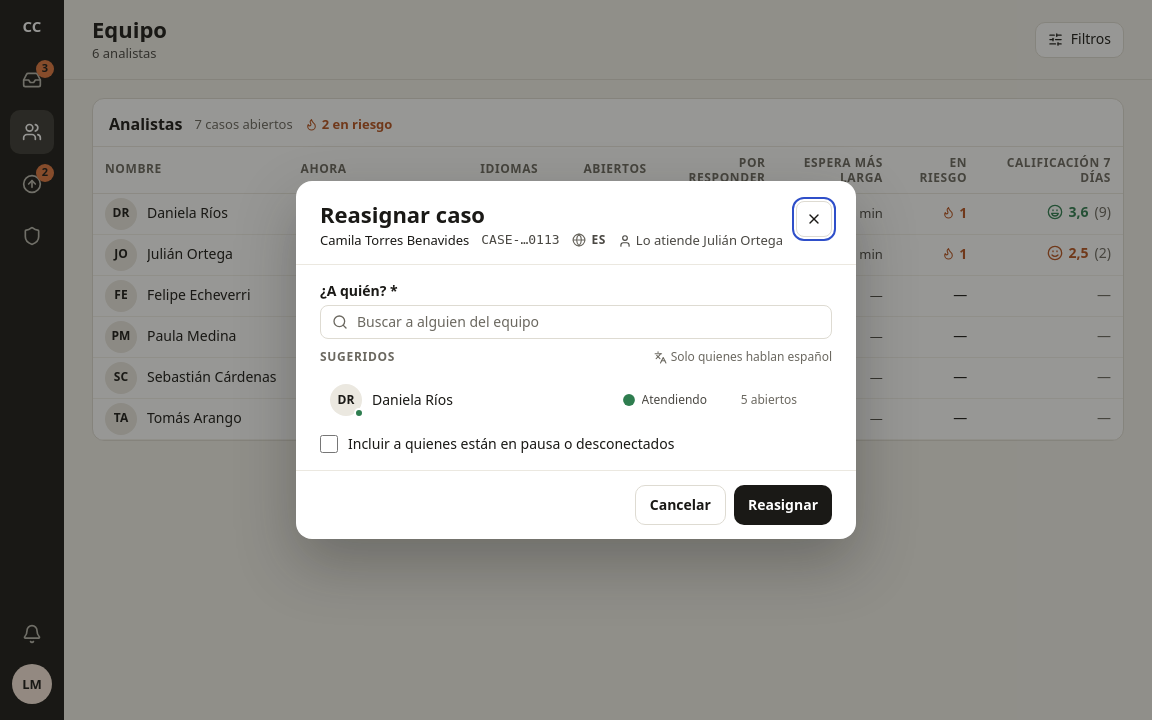
reassign dialog ("Reasignar caso") › asks to confirm a paused choice, previews the notice and reports a race
Step 1. Click the checkbox labelled "Incluir a quienes están en pausa o desconectados" → click(329, 444), box left=320, top=435, right=338, bottom=453
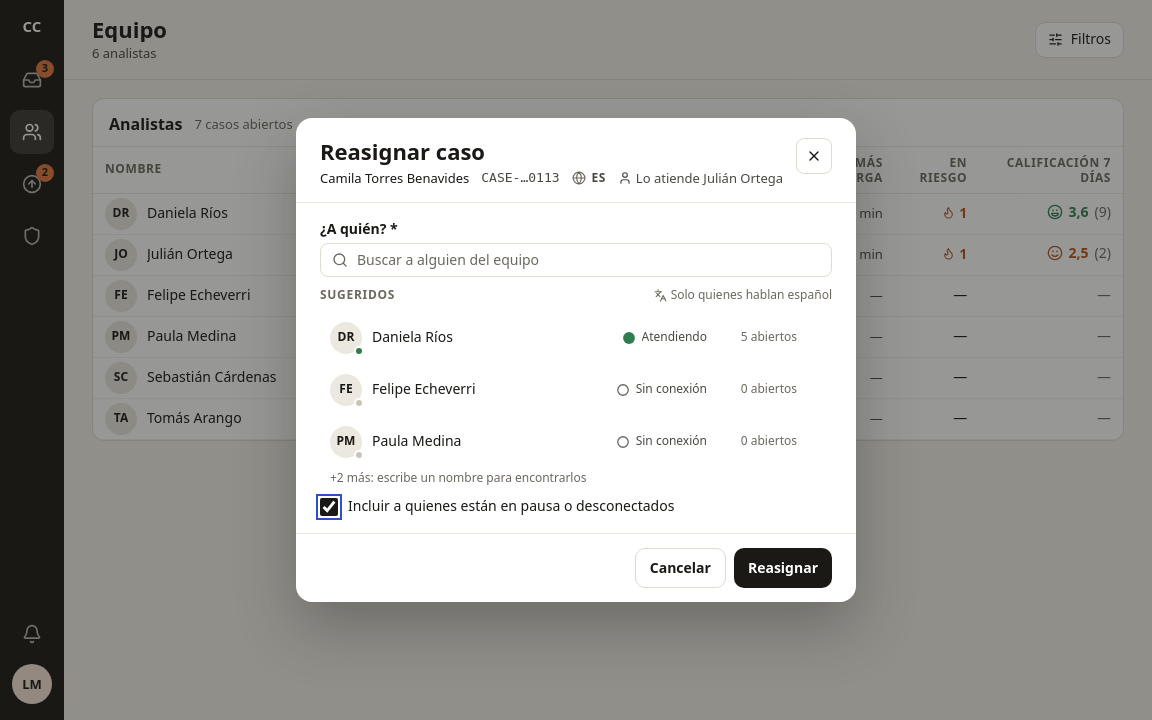
Step 2. Click the radio button labelled "PM Paula Medina Sin conexión 0 abiertos" → click(346, 442), box left=320, top=418, right=832, bottom=466
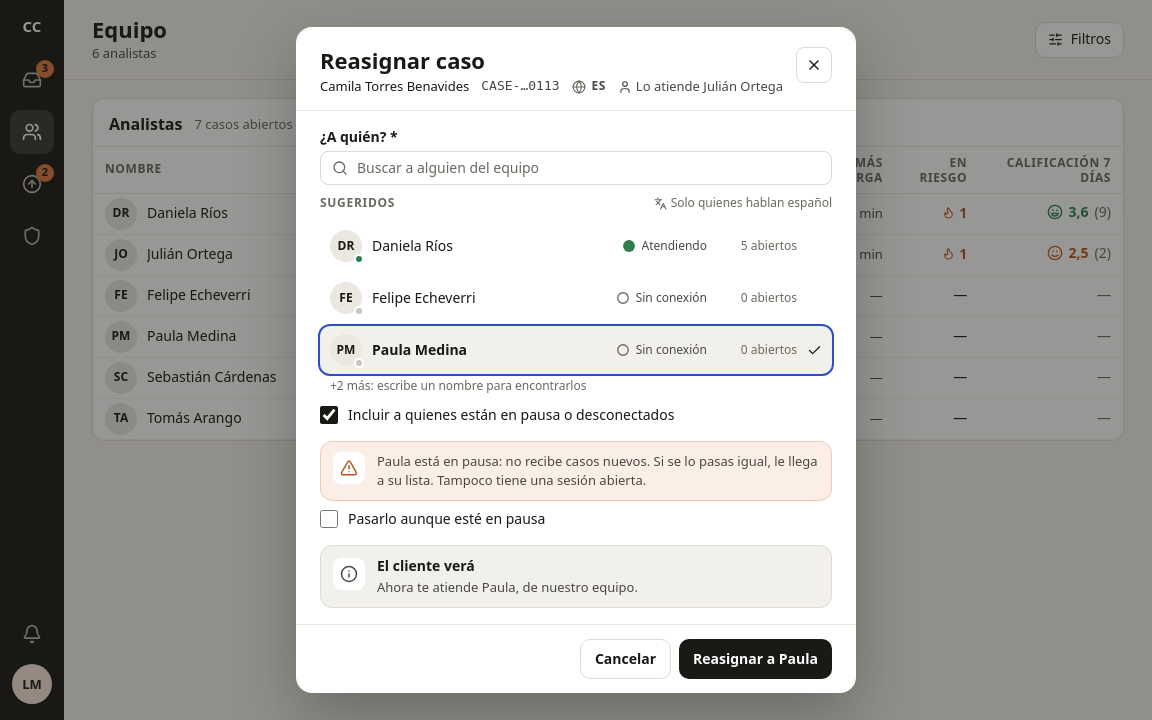
Expected: the text "Paula está en pausa: no recibe casos nuevos" is shown, left=377, top=452, right=818, bottom=489
Step 3. Click the button "Reasignar a Paula" → click(756, 659), box left=679, top=639, right=832, bottom=679
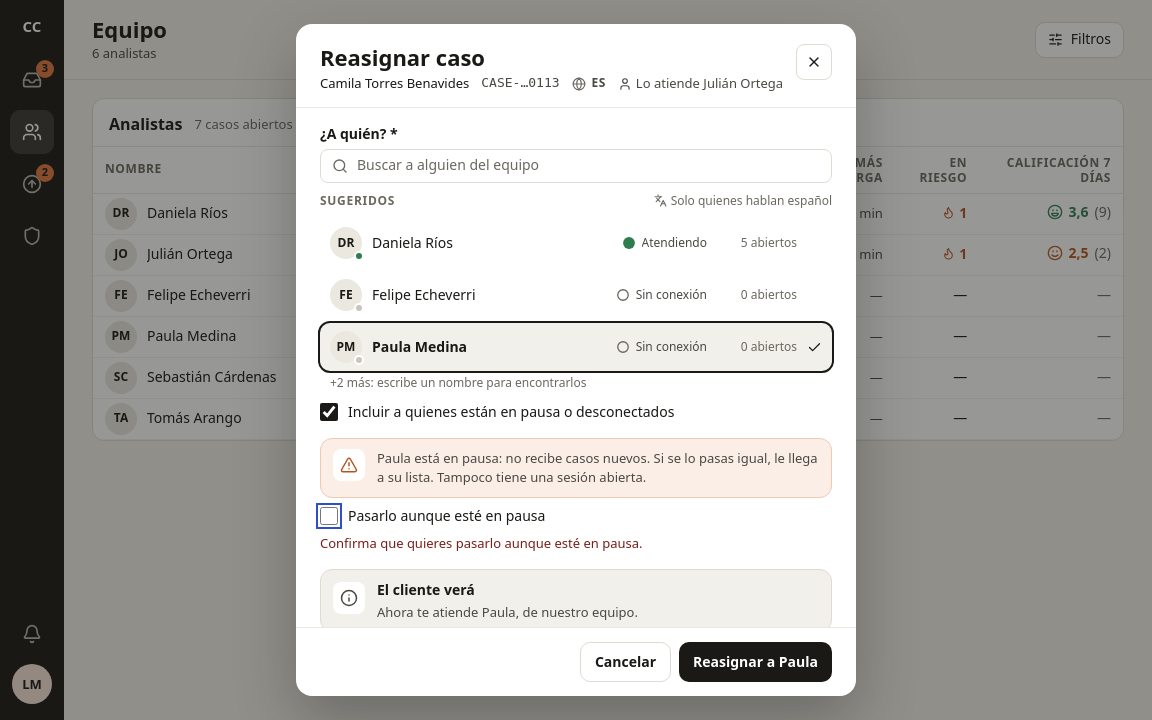
Expected: the text "Confirma que quieres pasarlo aunque esté en pausa." is shown, left=320, top=534, right=643, bottom=552
Step 4. Click the radio button labelled "DR Daniela Ríos Atendiendo 5 abiertos" → click(346, 243), box left=320, top=219, right=832, bottom=267
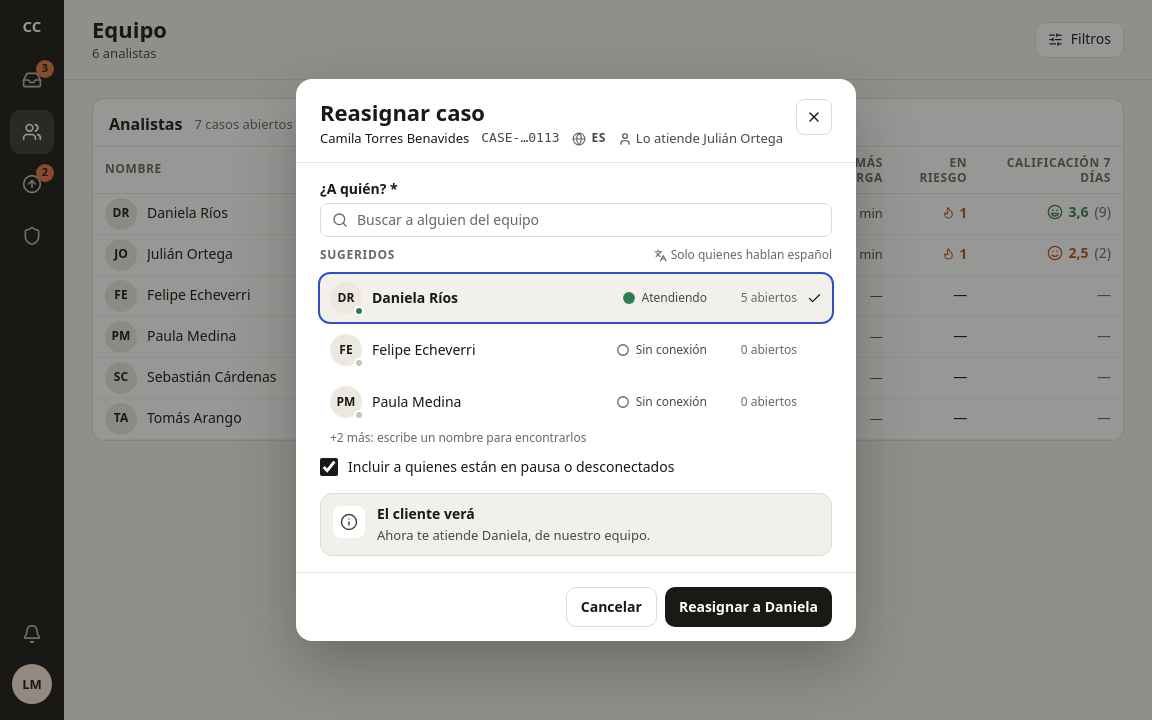
Step 5. Click the button "Reasignar a Daniela" → click(748, 607), box left=665, top=587, right=832, bottom=627
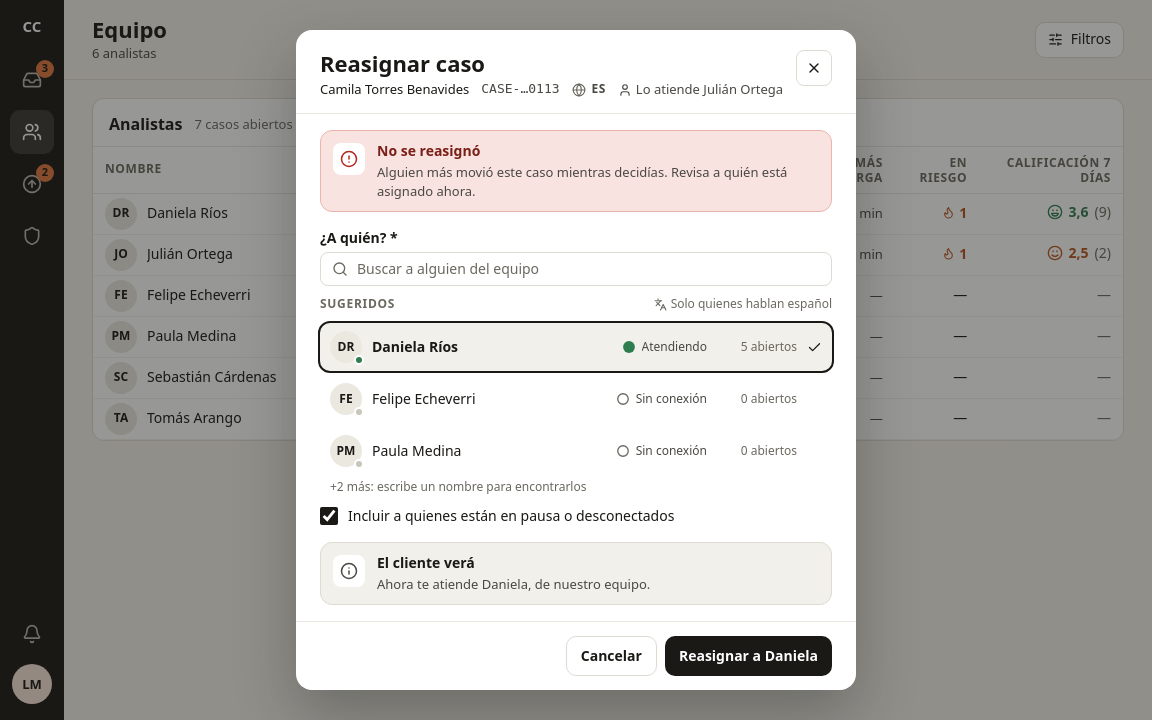
Expected: the text "Alguien más movió este caso mientras decidías. Revisa a quién está asignado ahora." is shown, left=377, top=163, right=787, bottom=200
